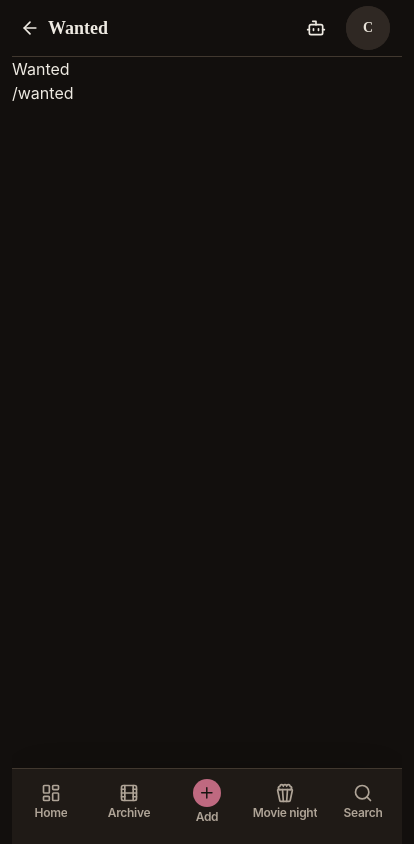
AppLayout phone top bar — Batch T3 › returns to You from a page opened there
The image size is (414, 844).
Click the button named "Back": (30, 28) [20, 18, 40, 38]
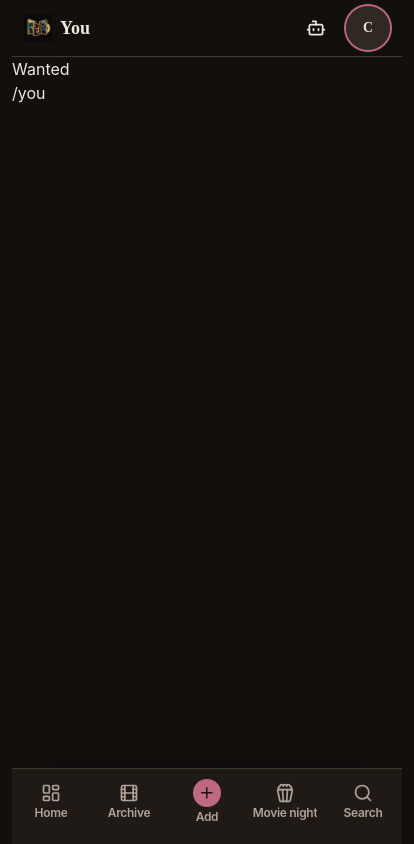
Expected: the text named "Current page" reads "/you", [12, 83, 46, 103]
